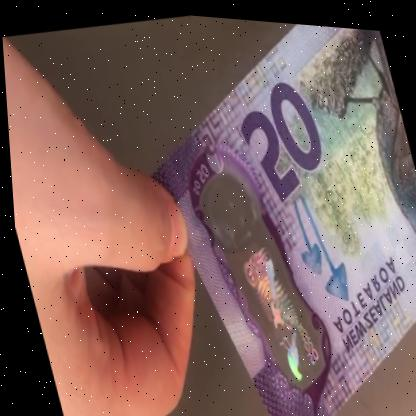50B: (201, 167, 321, 390)
